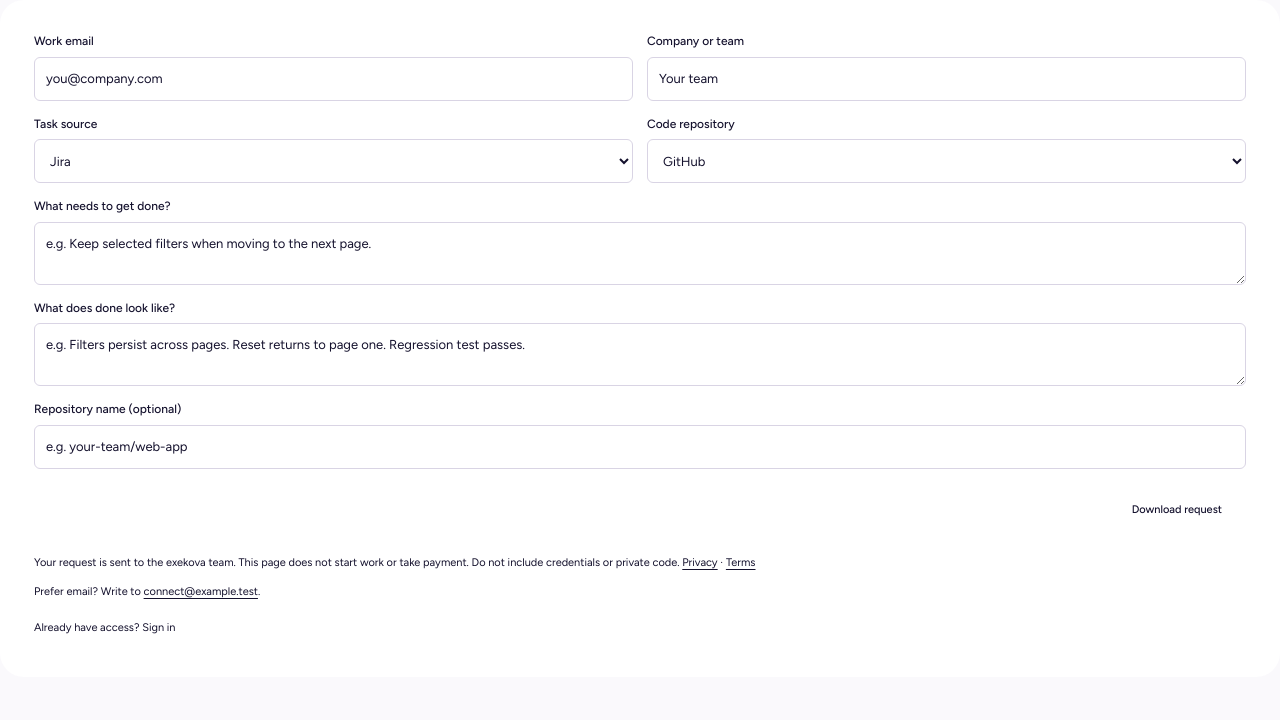
Test: qualified requests › retains the request and allows retry after unconfirmed delivery (200)
Type "lead@example.test" into the field labelled "Work email" at (334, 79), box [34,57,633,101]
Type "Example team" into the field labelled "Company or team" at (946, 79), box [647,57,1246,101]
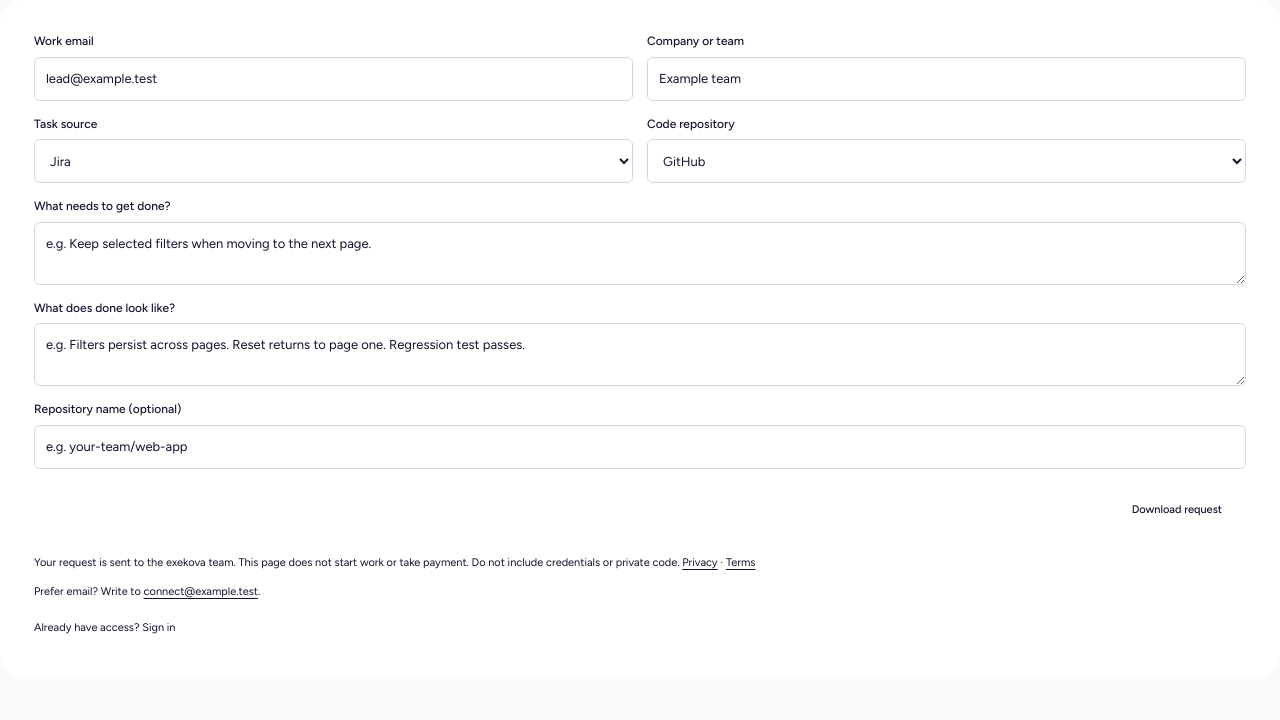
Type "Keep the selected filters." into the text box labelled "What needs to get done?" at (640, 253), box [34,222,1246,285]
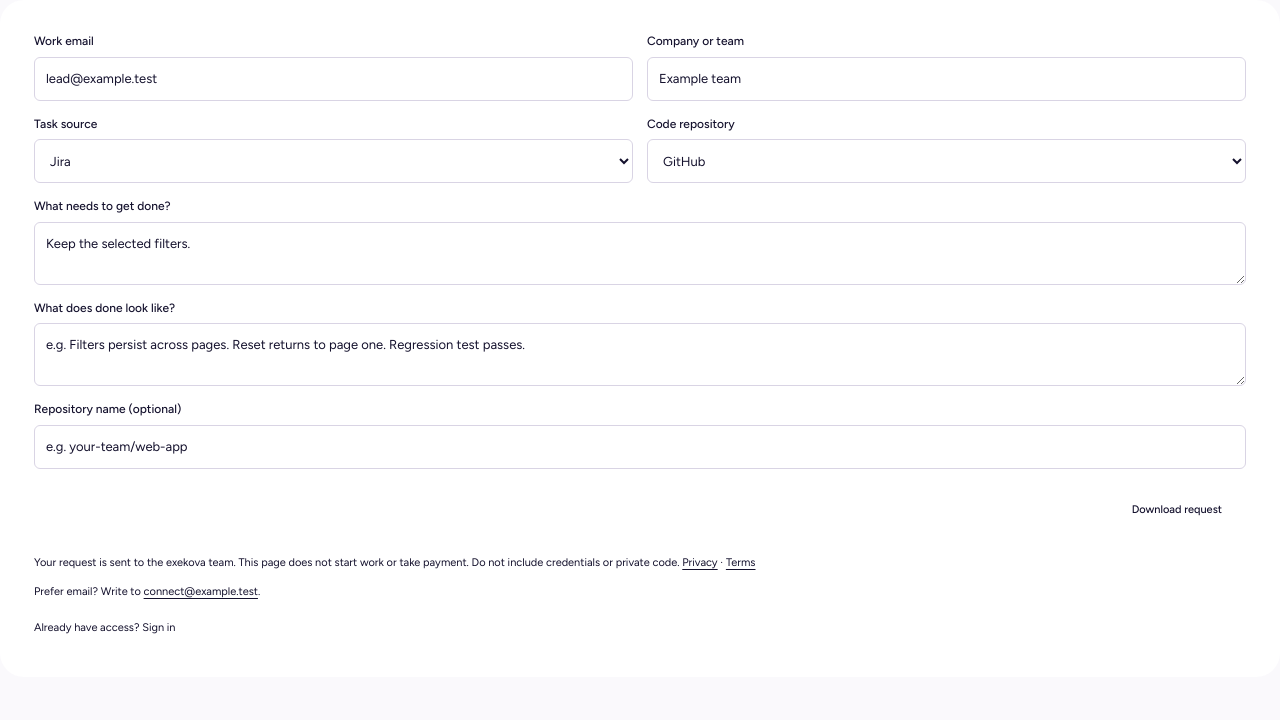
Replace the text in the text box labelled "What does done look like?" with "Filters persist. Add regression coverage." at (640, 355), box [34,323,1246,386]
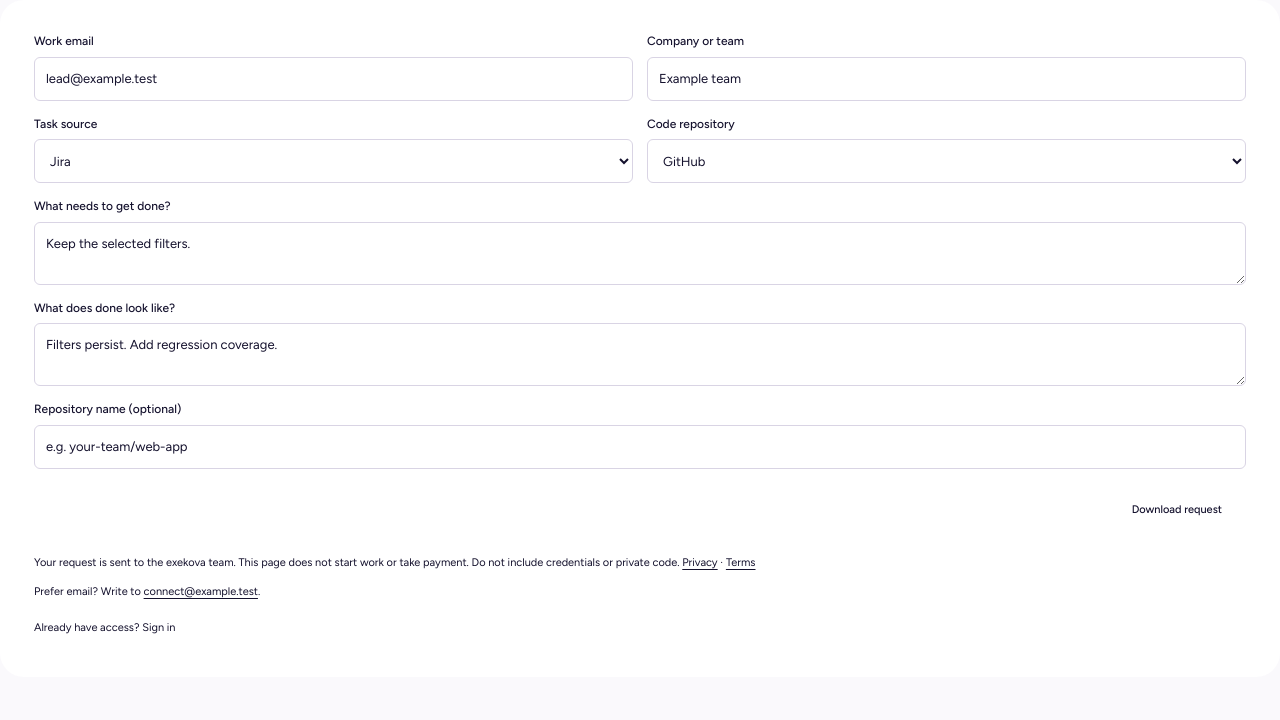
Type "example/web" into the field labelled "Repository name (optional)" at (640, 447), box [34,425,1246,469]
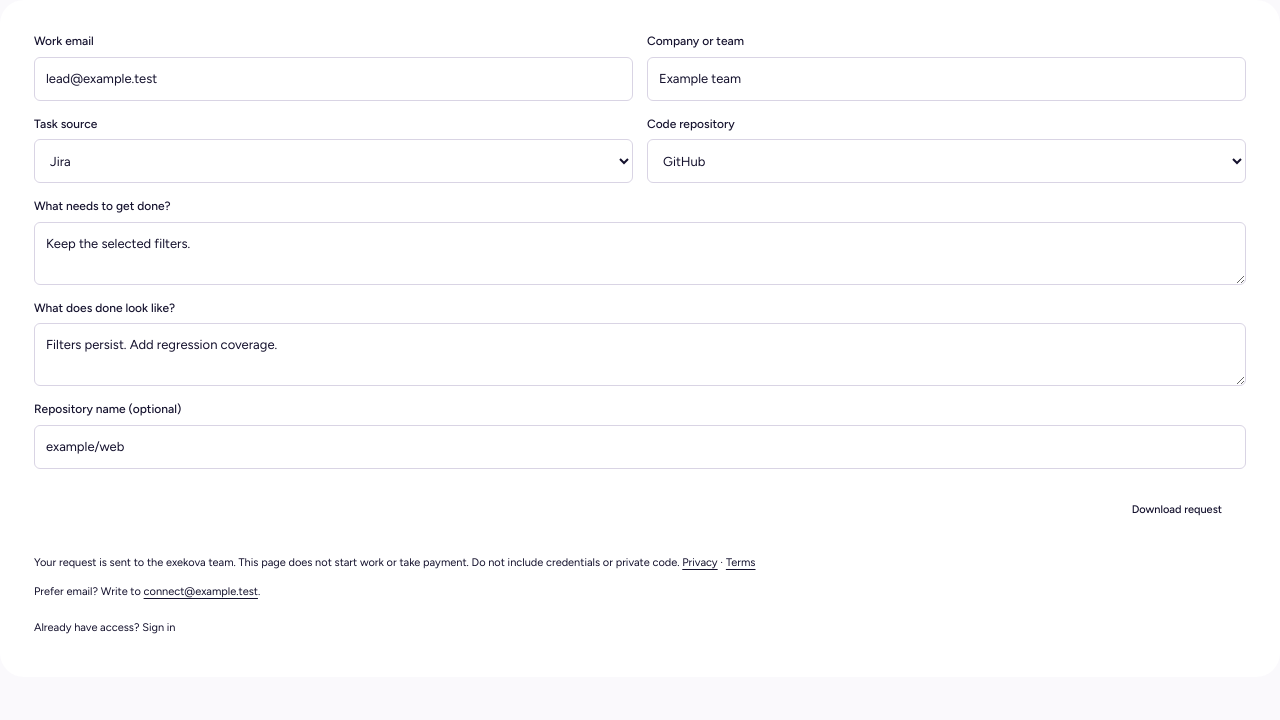
Submit the form named "Access request"
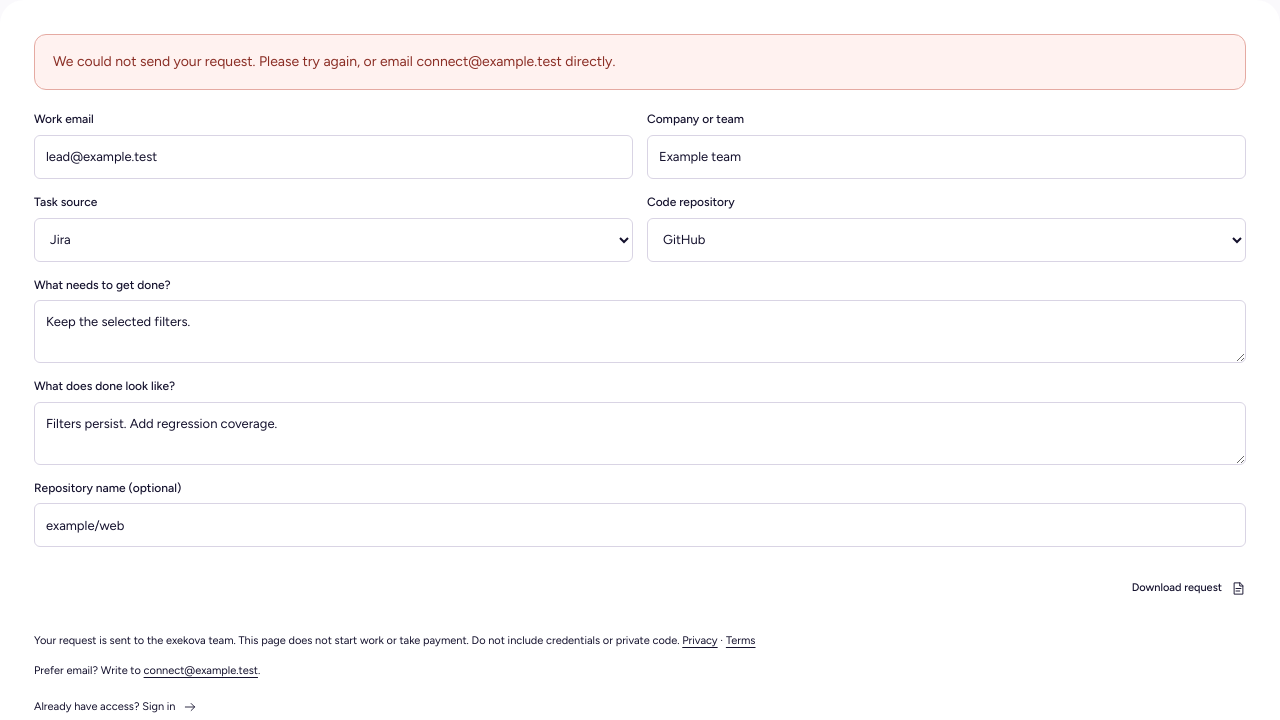
Now the message shows "could not send", box [53,53,615,70]
Submit the form named "Access request"
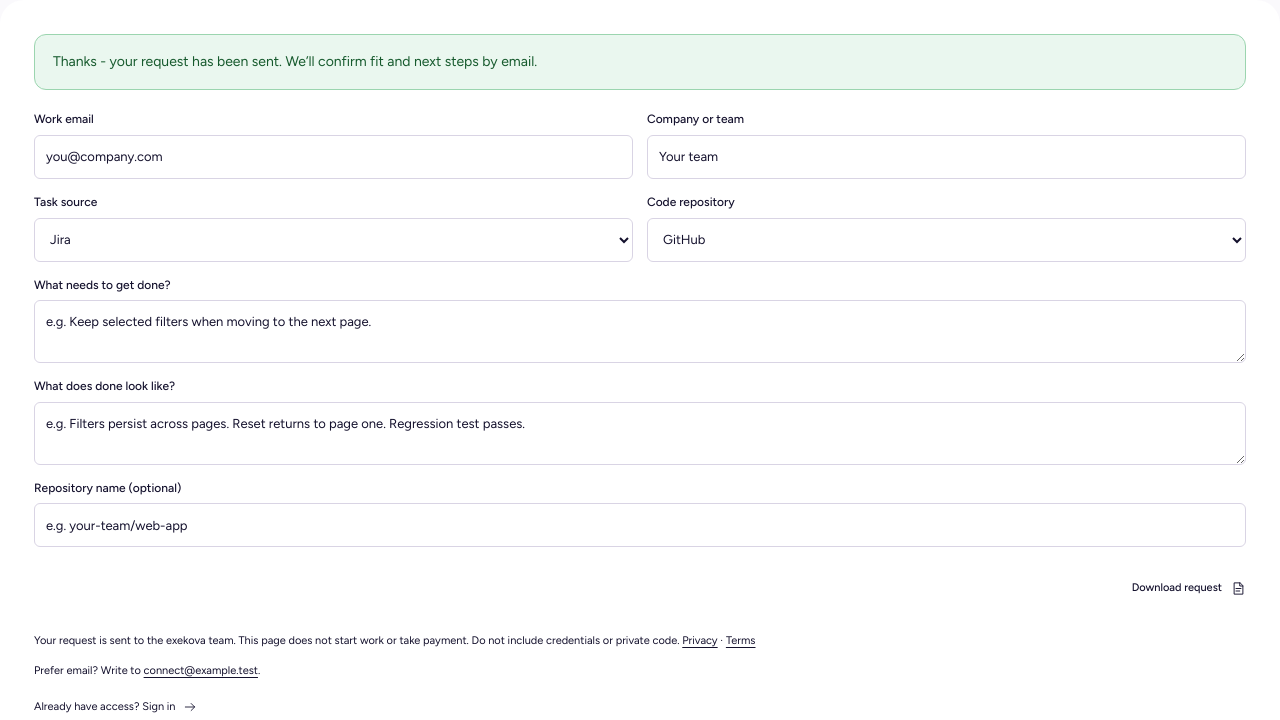
Now the message shows "request has been sent", box [53,53,537,70]
